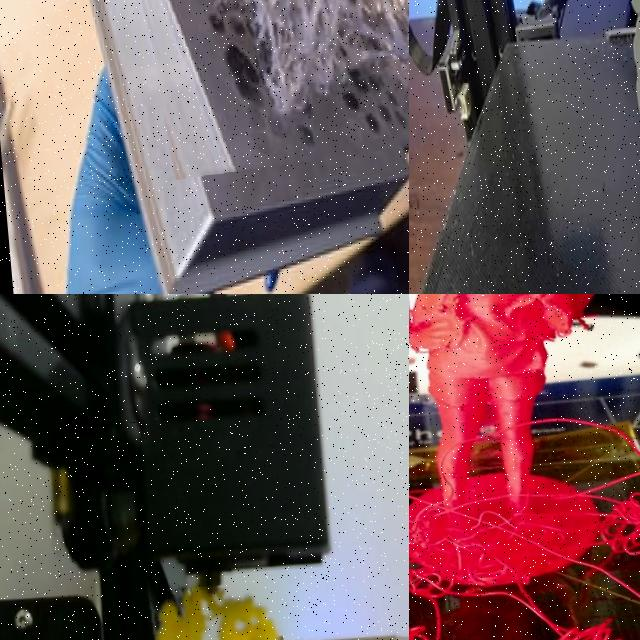spaghetti: (102, 0, 409, 182), (409, 558, 640, 640), (134, 580, 288, 640)
